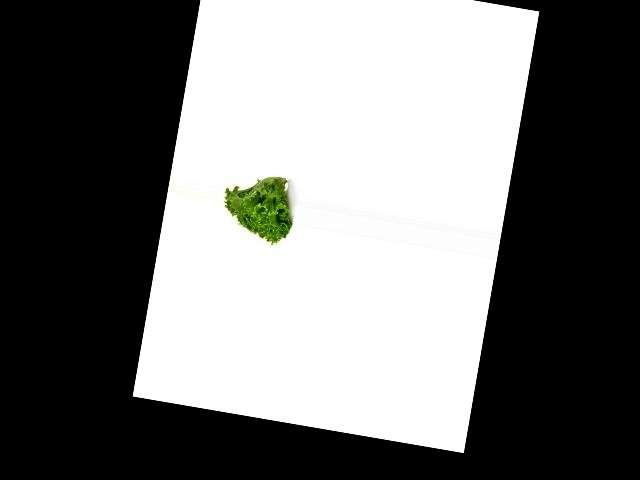lettuce: (215, 163, 300, 251)
